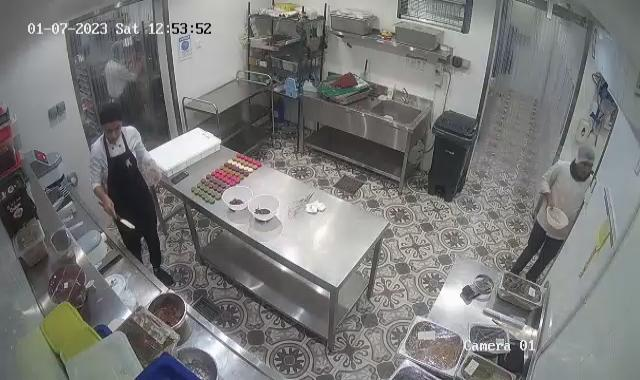no_hairnet: (96, 102, 124, 129)
